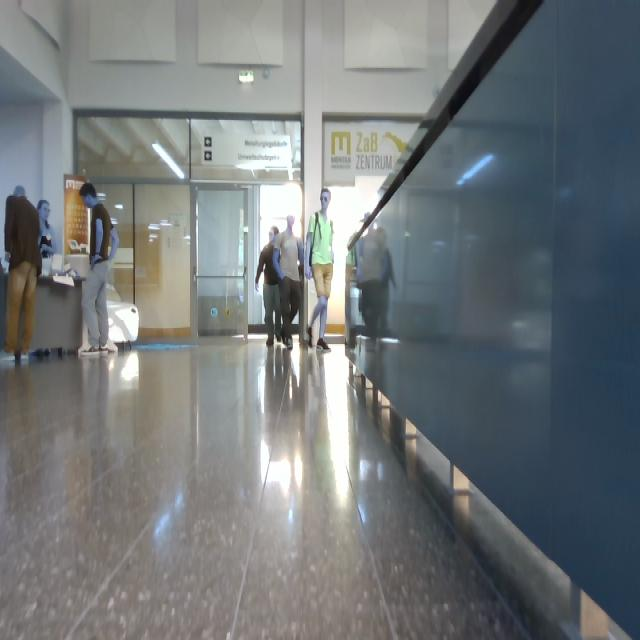door: (134, 183, 191, 339), (195, 187, 249, 339)
light bulb: (152, 141, 185, 180), (456, 153, 495, 186), (239, 70, 254, 84)
person: (79, 182, 119, 356), (4, 185, 43, 362), (305, 188, 335, 352), (273, 215, 305, 351), (255, 227, 283, 347)
staircase: (344, 1, 639, 638)
